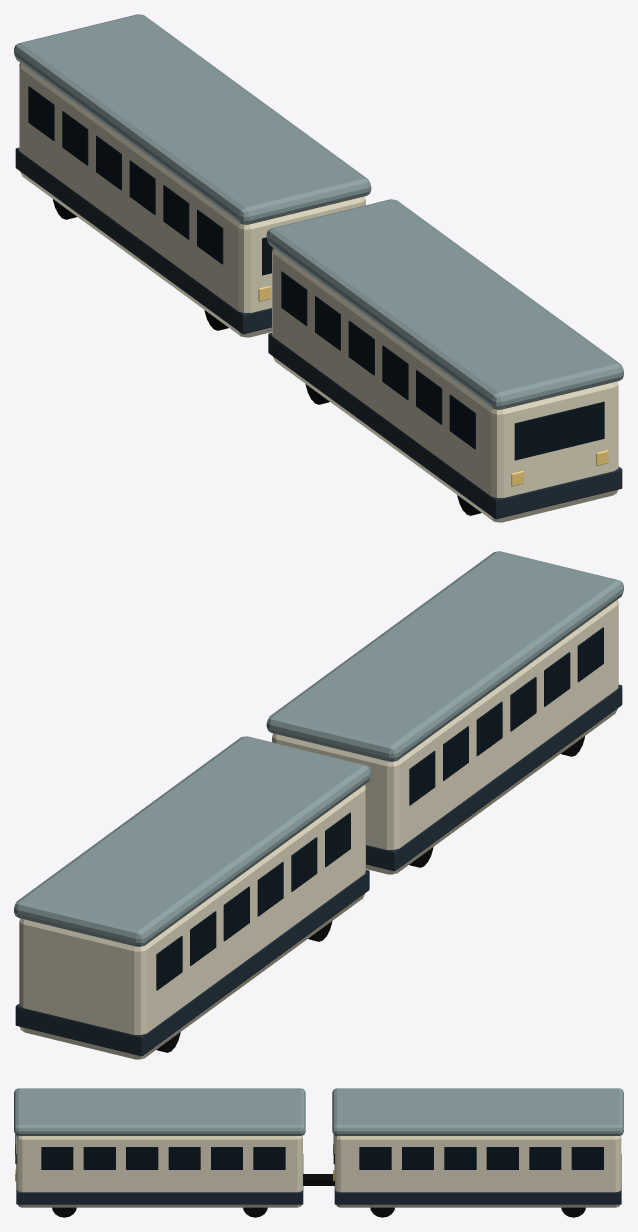
File: HNP_Train_v003.fbx
The picture shows the model from 3 angles, top to bottom: view 1: azimuth 30°, elevation 25°; view 2: azimuth 150°, elevation 25°; view 3: azimuth 270°, elevation 25°; orthographic projection. The views are drawn at different scales.
Visible parts, largest first — view 1: HNP_Train_v003_HNP3_Atlas, HNP_Train_v003_HNP3_Body; view 2: HNP_Train_v003_HNP3_Atlas, HNP_Train_v003_HNP3_Body; view 3: HNP_Train_v003_HNP3_Atlas, HNP_Train_v003_HNP3_Body, Wheel_Train.002, Wheel_Train.003, Wheel_Train.006, Wheel_Train.007.
Boxes of the visible parts, <box> form: HNP_Train_v003_HNP3_Atlas: <box>14,14,623,519</box>; HNP_Train_v003_HNP3_Body: <box>19,62,618,522</box>; HNP_Train_v003_HNP3_Atlas: <box>14,551,623,1056</box>; HNP_Train_v003_HNP3_Body: <box>19,599,618,1059</box>; HNP_Train_v003_HNP3_Atlas: <box>14,1088,623,1204</box>; HNP_Train_v003_HNP3_Body: <box>16,1135,621,1207</box>; Wheel_Train.002: <box>561,1207,585,1217</box>; Wheel_Train.003: <box>370,1207,394,1217</box>; Wheel_Train.006: <box>243,1207,267,1217</box>; Wheel_Train.007: <box>52,1207,76,1217</box>.
Size of the model in its own units: 270 by 294 by 1725.
Materials: 2 (1 with a texture image).
